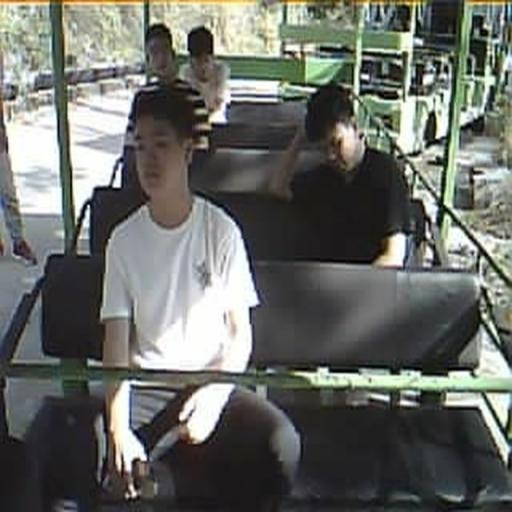persona: (99, 78, 302, 508), (268, 81, 414, 269), (124, 23, 210, 149), (176, 24, 233, 122)
